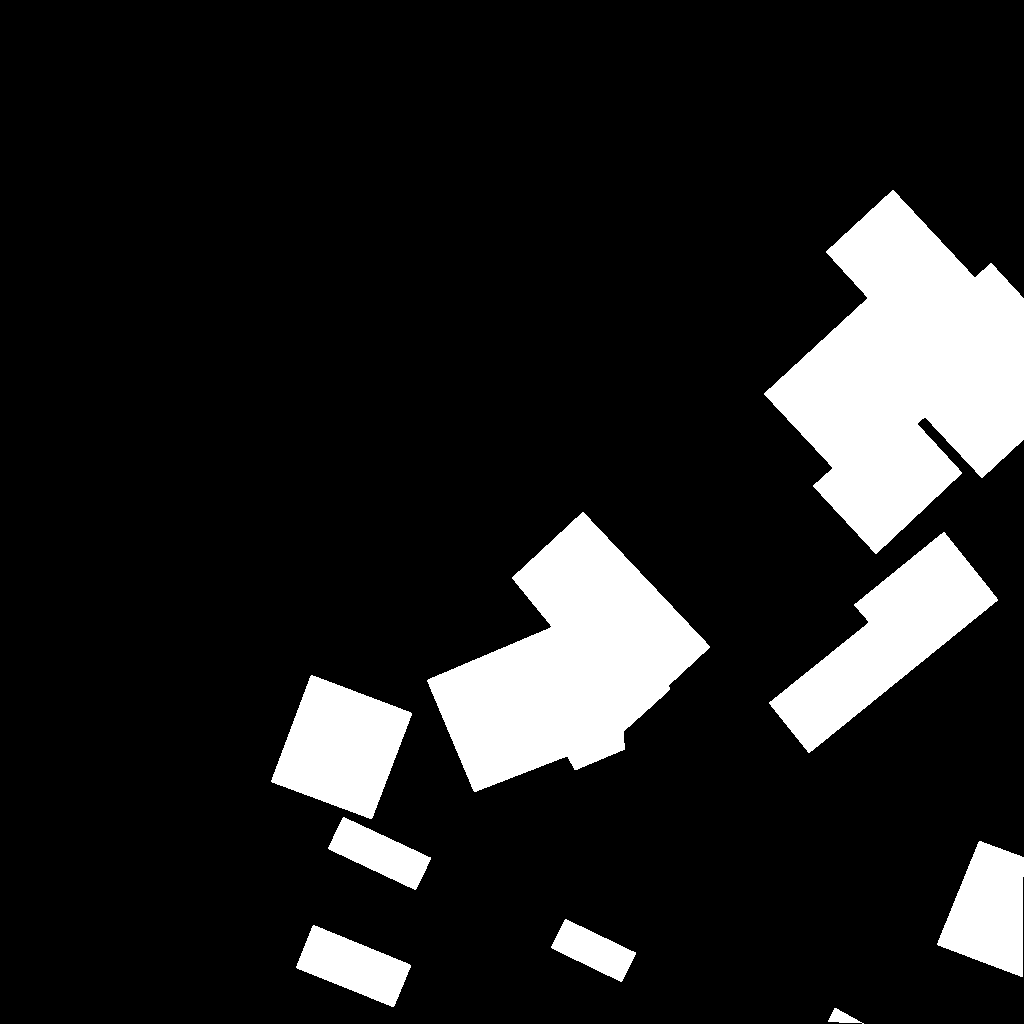building: (764, 190, 1024, 555), (427, 512, 711, 793), (769, 532, 999, 754), (271, 675, 413, 820), (937, 841, 1024, 978), (296, 925, 412, 1008), (328, 817, 432, 891), (551, 919, 637, 983), (828, 1008, 865, 1024)
